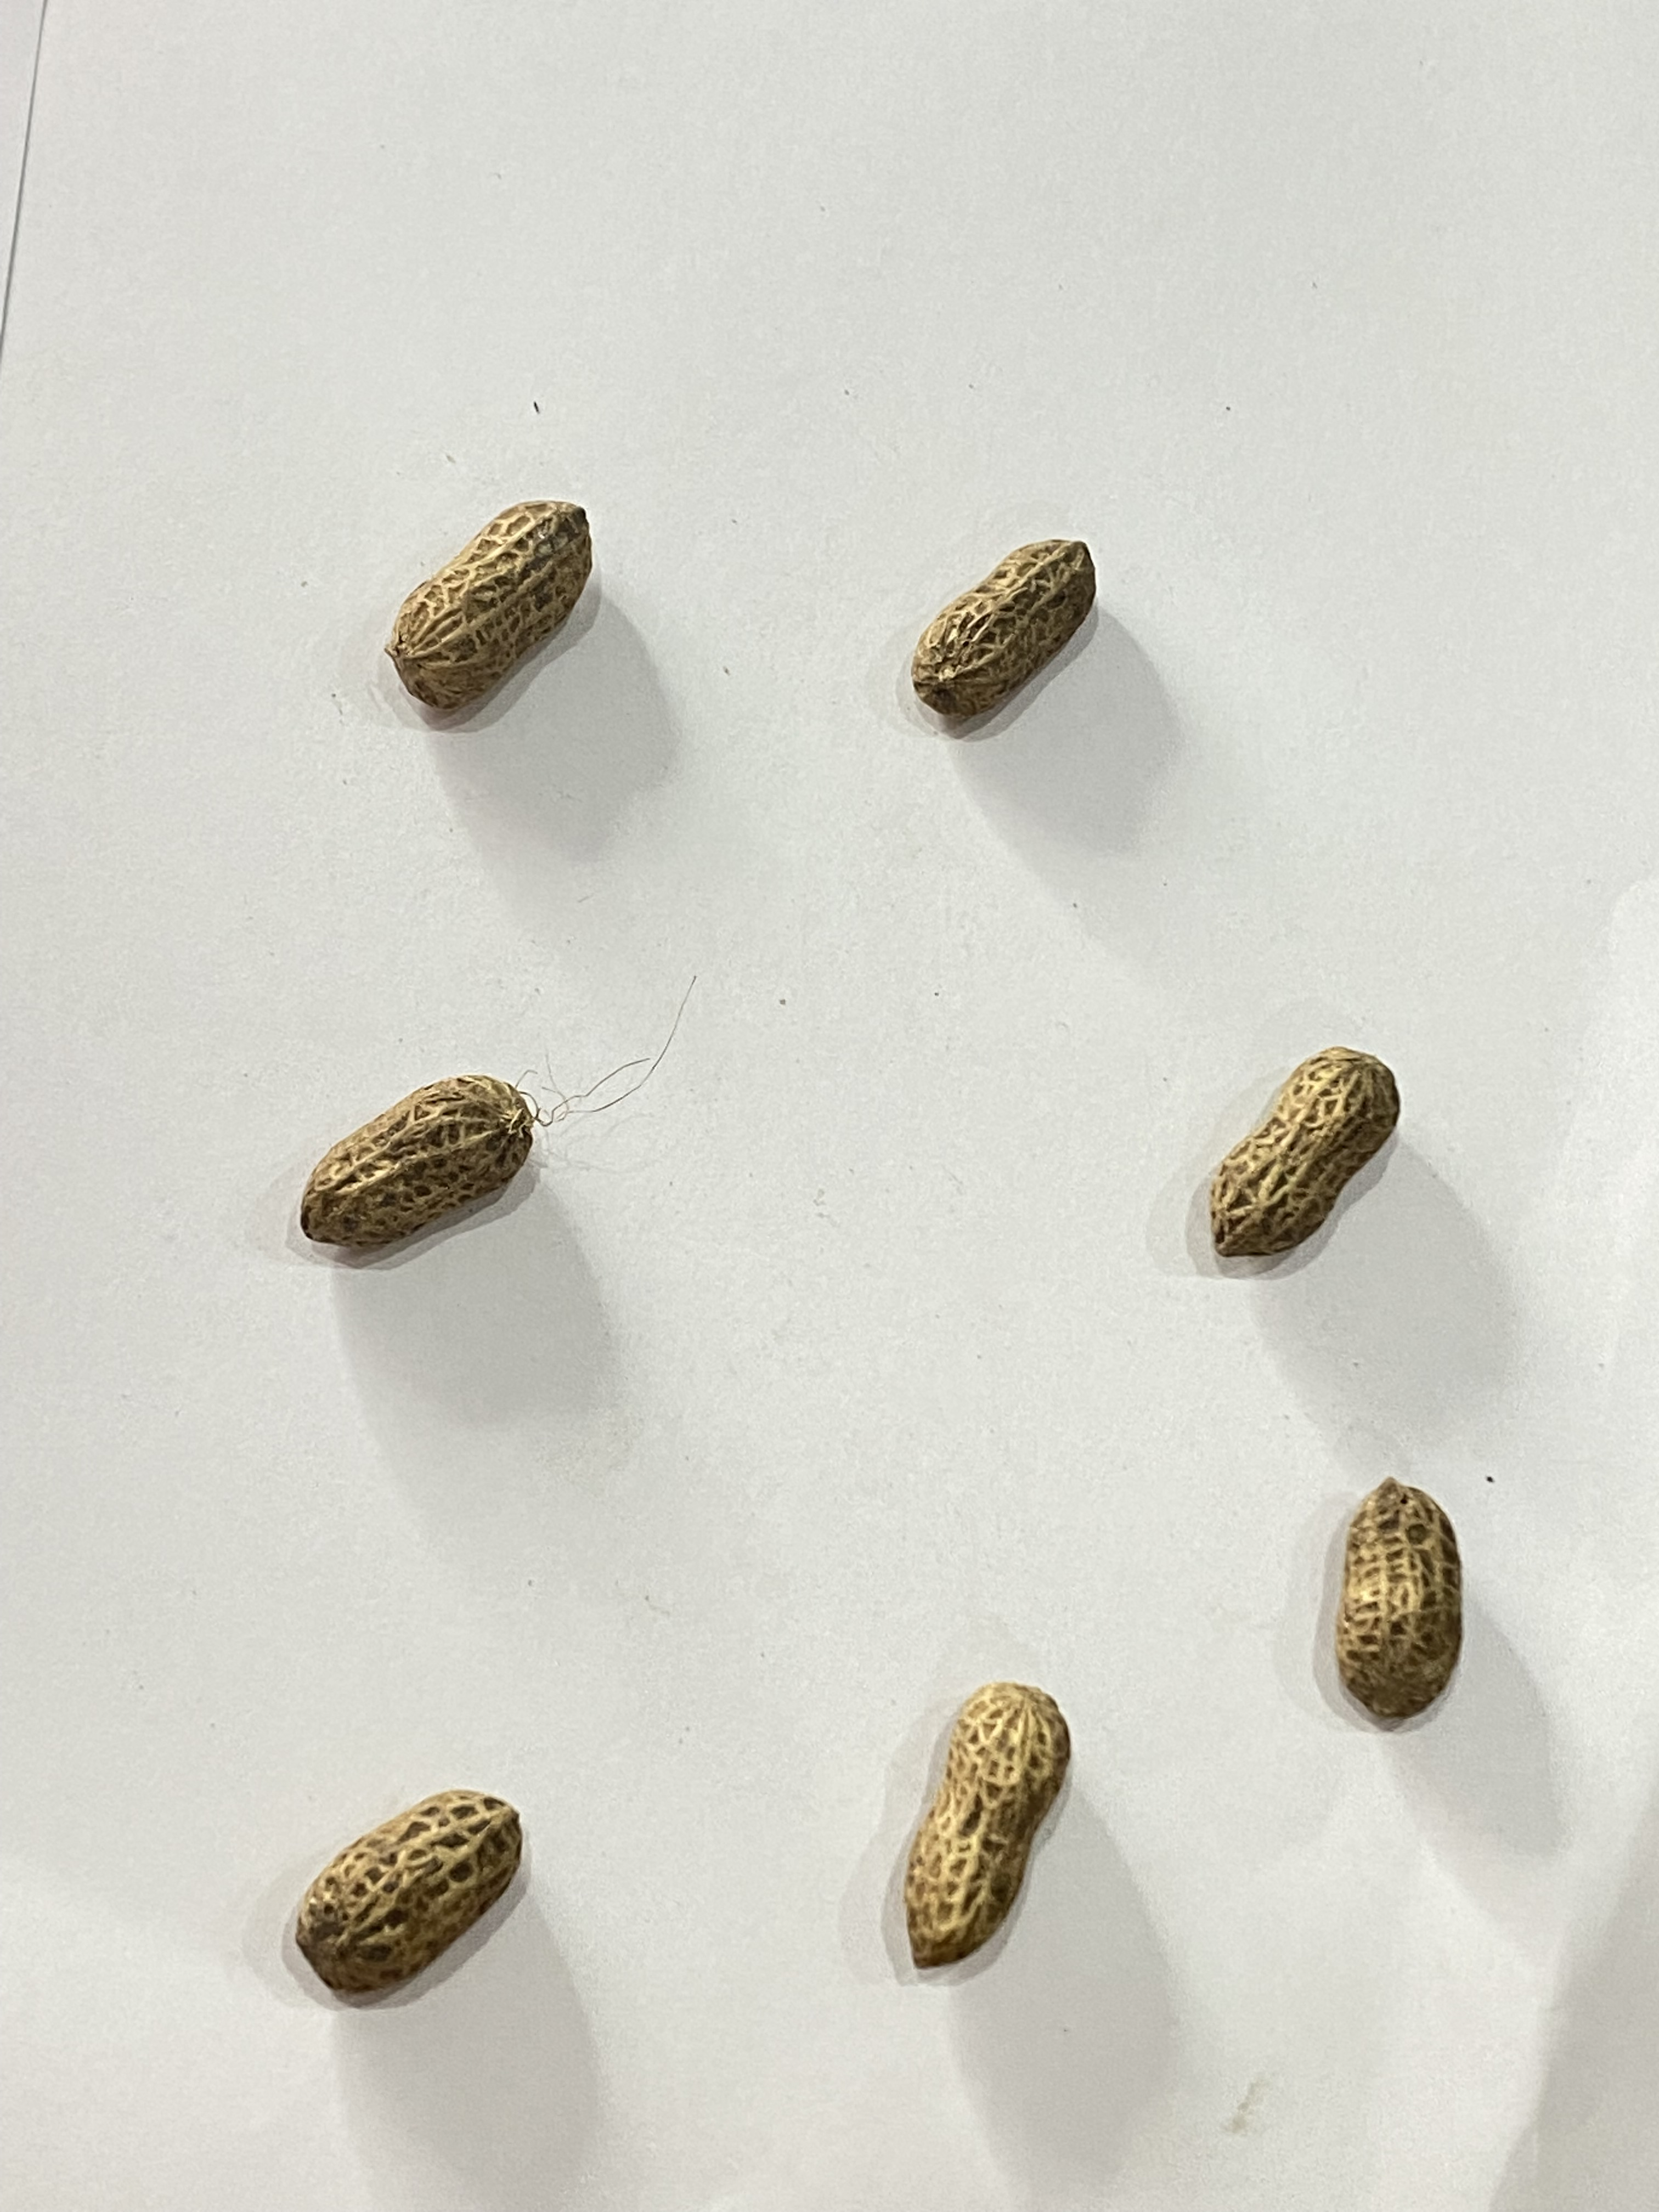kacang1: (268, 1789, 554, 1984), (1335, 1444, 1464, 1738)
kacang2: (901, 1644, 1072, 2017), (1183, 1022, 1413, 1277), (288, 1069, 587, 1256), (373, 479, 606, 712), (903, 523, 1112, 723)
